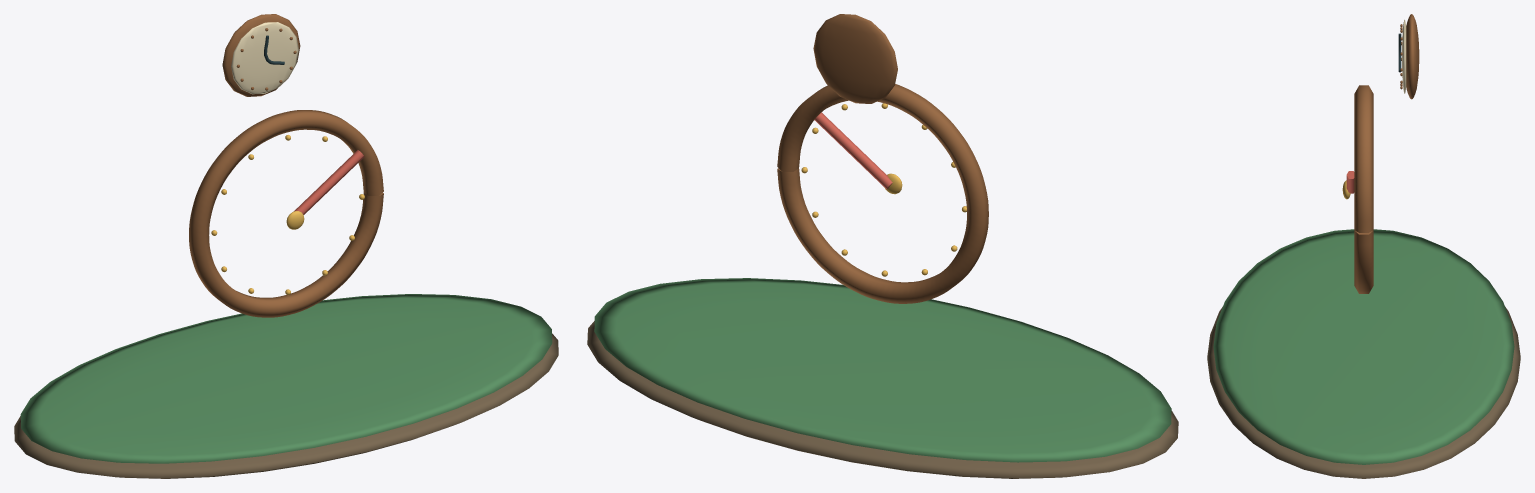
File: complete-third-second-hand-tick.glb
3 views of the same model, side by side, from view 1: azimuth 30°, elevation 25°; view 2: azimuth 150°, elevation 25°; view 3: azimuth 270°, elevation 25° (orthographic). The views are drawn at different scales.
Parts seen in each view (by area): view 1: complete-third-second-hand-tick_surface_01, complete-third-second-hand-tick_surface_02, complete-third-second-hand-tick_surface_00, complete-third-second-hand-tick_surface_05, complete-third-second-hand-tick_surface_03, complete-third-second-hand-tick_surface_04; view 2: complete-third-second-hand-tick_surface_01, complete-third-second-hand-tick_surface_02, complete-third-second-hand-tick_surface_00, complete-third-second-hand-tick_surface_03, complete-third-second-hand-tick_surface_04; view 3: complete-third-second-hand-tick_surface_01, complete-third-second-hand-tick_surface_00, complete-third-second-hand-tick_surface_02.
Part boxes in pixels (x1=…): complete-third-second-hand-tick_surface_01: x1=20, y1=294, x2=552, y2=463; complete-third-second-hand-tick_surface_02: x1=189, y1=14, x2=383, y2=317; complete-third-second-hand-tick_surface_00: x1=14, y1=333, x2=558, y2=478; complete-third-second-hand-tick_surface_05: x1=231, y1=22, x2=298, y2=94; complete-third-second-hand-tick_surface_03: x1=294, y1=150, x2=364, y2=214; complete-third-second-hand-tick_surface_04: x1=211, y1=135, x2=364, y2=295; complete-third-second-hand-tick_surface_01: x1=594, y1=278, x2=1171, y2=462; complete-third-second-hand-tick_surface_02: x1=777, y1=14, x2=988, y2=303; complete-third-second-hand-tick_surface_00: x1=587, y1=321, x2=1178, y2=478; complete-third-second-hand-tick_surface_03: x1=814, y1=112, x2=892, y2=189; complete-third-second-hand-tick_surface_04: x1=801, y1=103, x2=966, y2=276; complete-third-second-hand-tick_surface_01: x1=1213, y1=229, x2=1514, y2=464; complete-third-second-hand-tick_surface_00: x1=1207, y1=307, x2=1520, y2=478; complete-third-second-hand-tick_surface_02: x1=1354, y1=14, x2=1419, y2=293.
Size of the model in its own units: 4.56 by 3.12 by 2.5.
